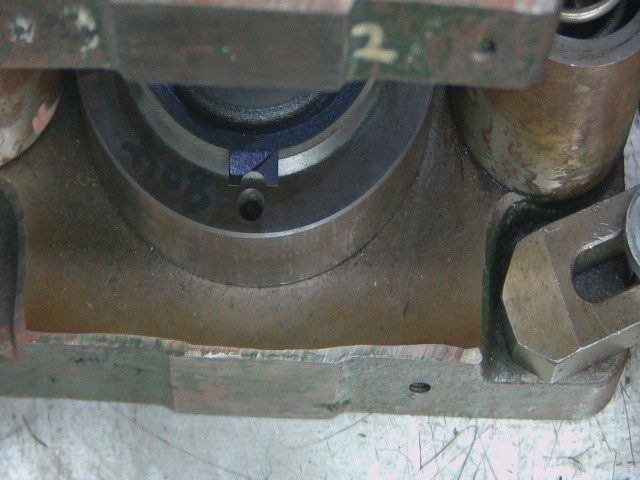NG: (228, 140, 292, 196)
